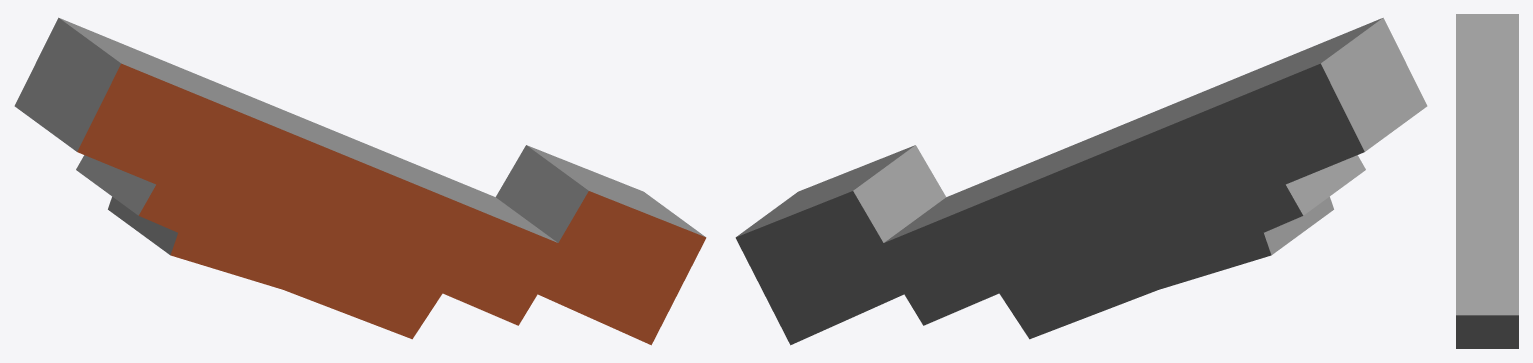
Rendered from construction_2142_assumed_A_Casa_h6m.obj.
3 views of the same model, side by side, from view 1: azimuth 30°, elevation 25°; view 2: azimuth 150°, elevation 25°; view 3: azimuth 270°, elevation 25° (orthographic). The views are drawn at different scales.
Parts seen in each view (by area): view 1: construction_2142_assumed_A_Casa; view 2: construction_2142_assumed_A_Casa; view 3: construction_2142_assumed_A_Casa.
Boxes of the visible parts, x1=… form: construction_2142_assumed_A_Casa: x1=14, y1=17, x2=706, y2=345; construction_2142_assumed_A_Casa: x1=735, y1=17, x2=1427, y2=345; construction_2142_assumed_A_Casa: x1=1456, y1=14, x2=1518, y2=348.
Bounding box in the file's own units: 34.75 × 21.69 × 6.
